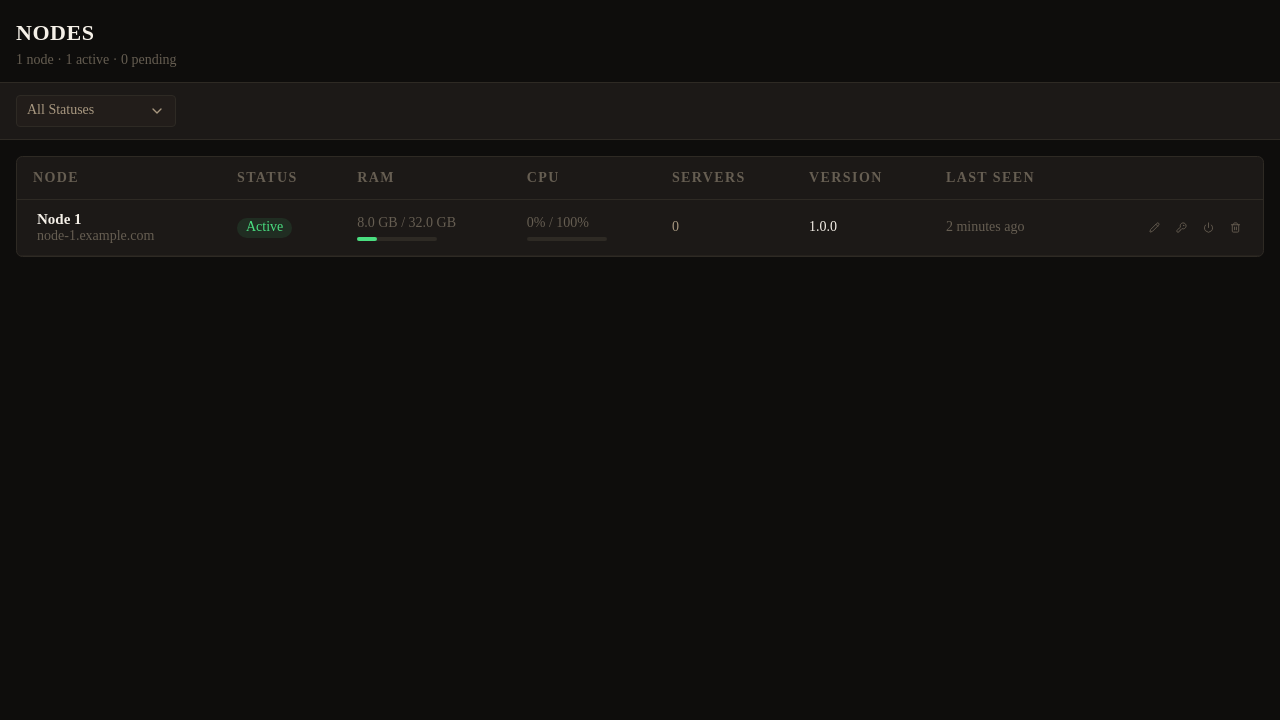
Scenario: NodesPage › Edit modal error › API error shown in modal
Expected: the text "Node 1" is shown, [37,211,82,227]
Click the button titled "Edit": (1154, 228) [1143,216,1166,239]
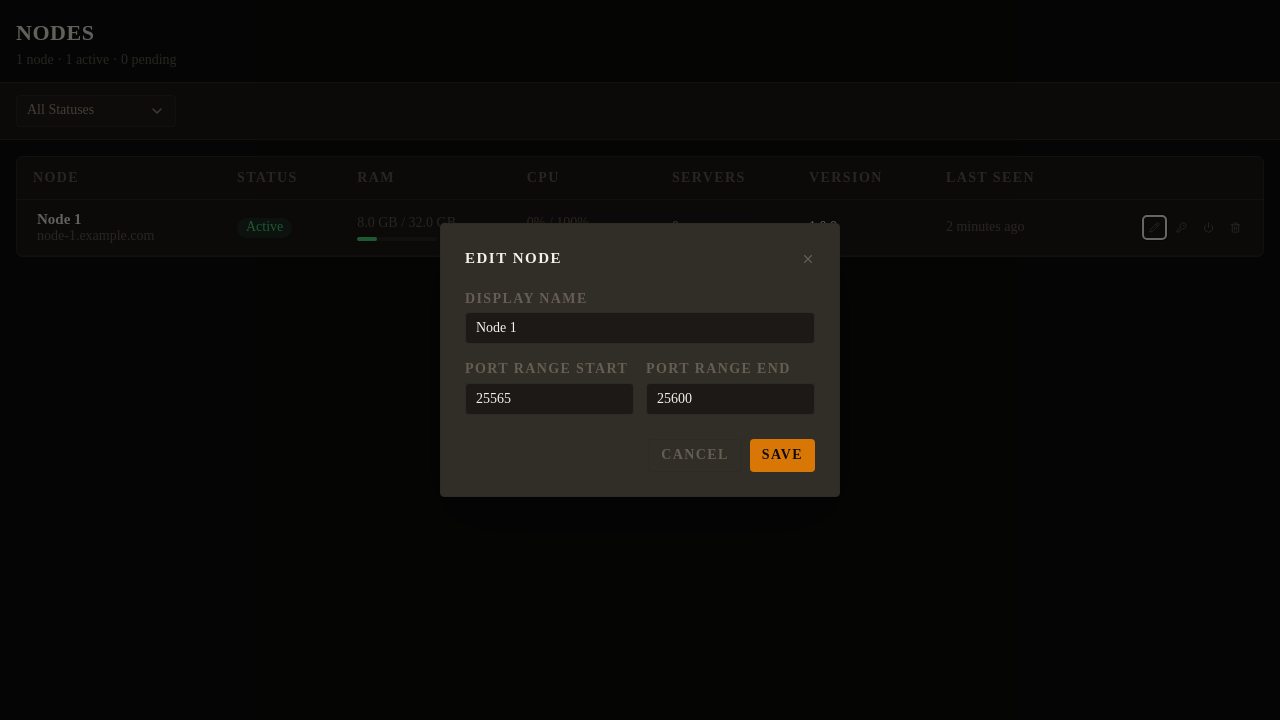
Result: the text "Edit Node" is shown at [465,248,562,270]
Click the button "Save": (782, 455) [750,439,815,472]
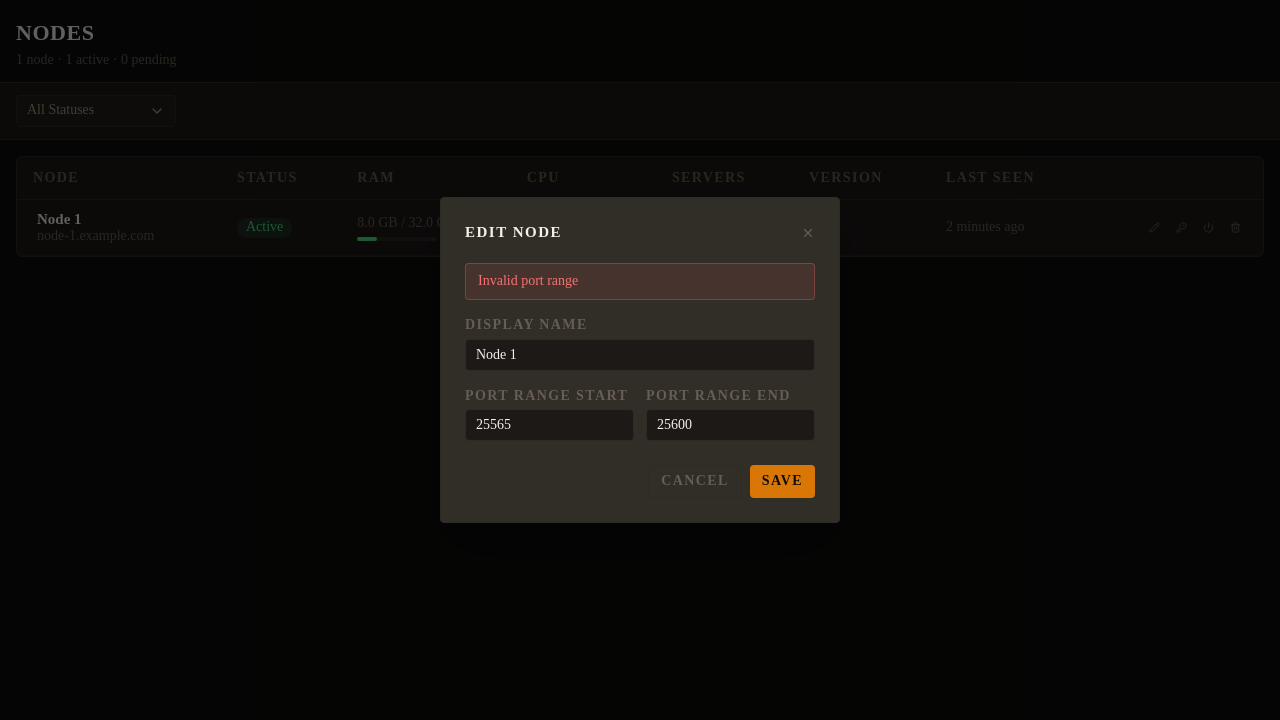
Result: the text "Invalid port range" is shown at [465,263,815,300]
